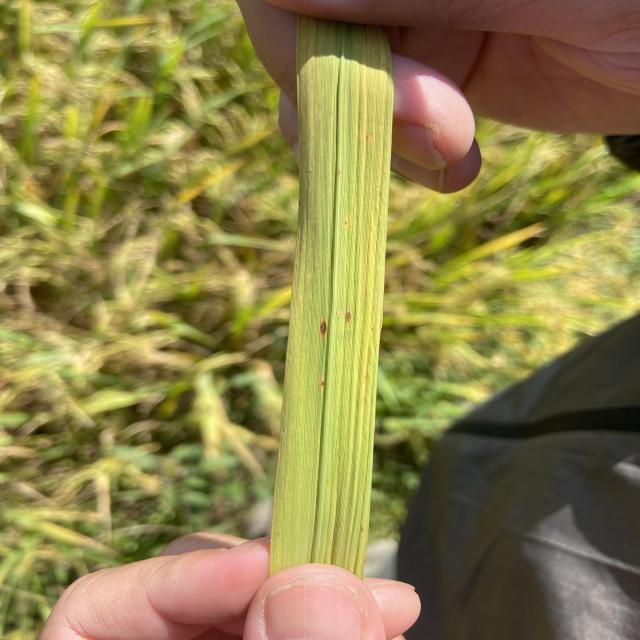Dom nau: (320, 322, 327, 335), (345, 312, 351, 322), (322, 382, 324, 385)
